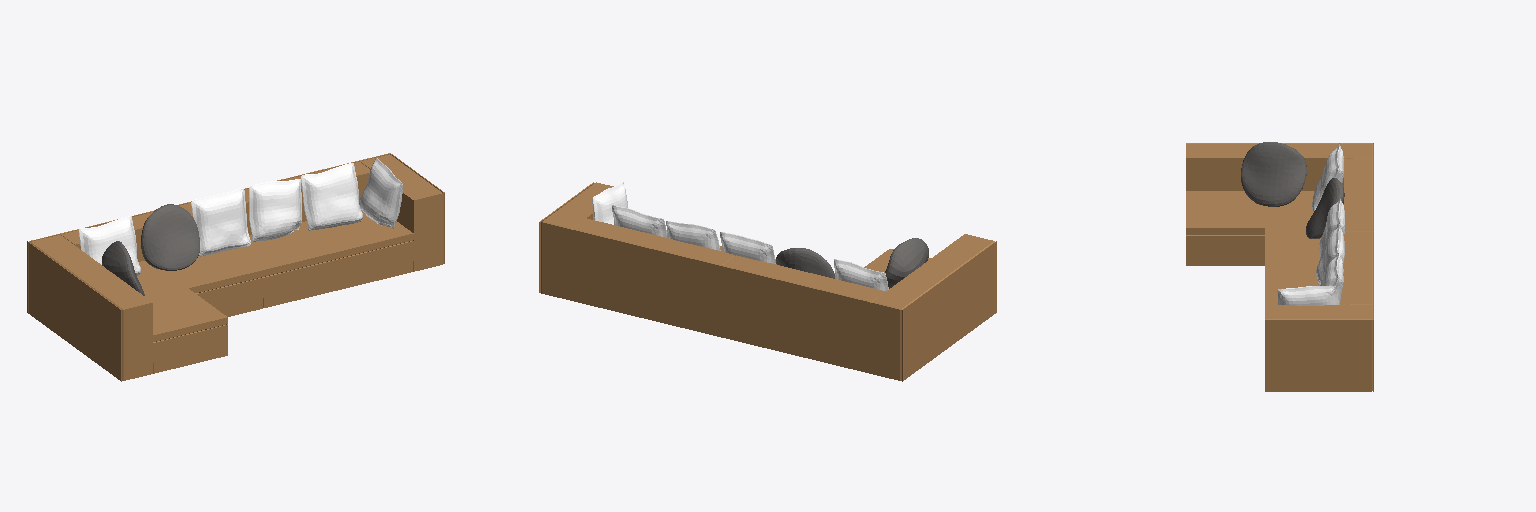
Rendered from sofa.obj.
The picture shows the model from 3 angles: view 1: azimuth 30°, elevation 25°; view 2: azimuth 150°, elevation 25°; view 3: azimuth 270°, elevation 25°; orthographic projection.
Visible parts, largest first — view 1: 1_1; view 2: 1_1; view 3: 1_1.
Part boxes in pixels (left/top/right/bottom): 1_1: left=27, top=153, right=444, bottom=381; 1_1: left=539, top=182, right=996, bottom=381; 1_1: left=1186, top=142, right=1373, bottom=391.
Size of the model in its own units: 10.37 by 2.57 by 4.65.